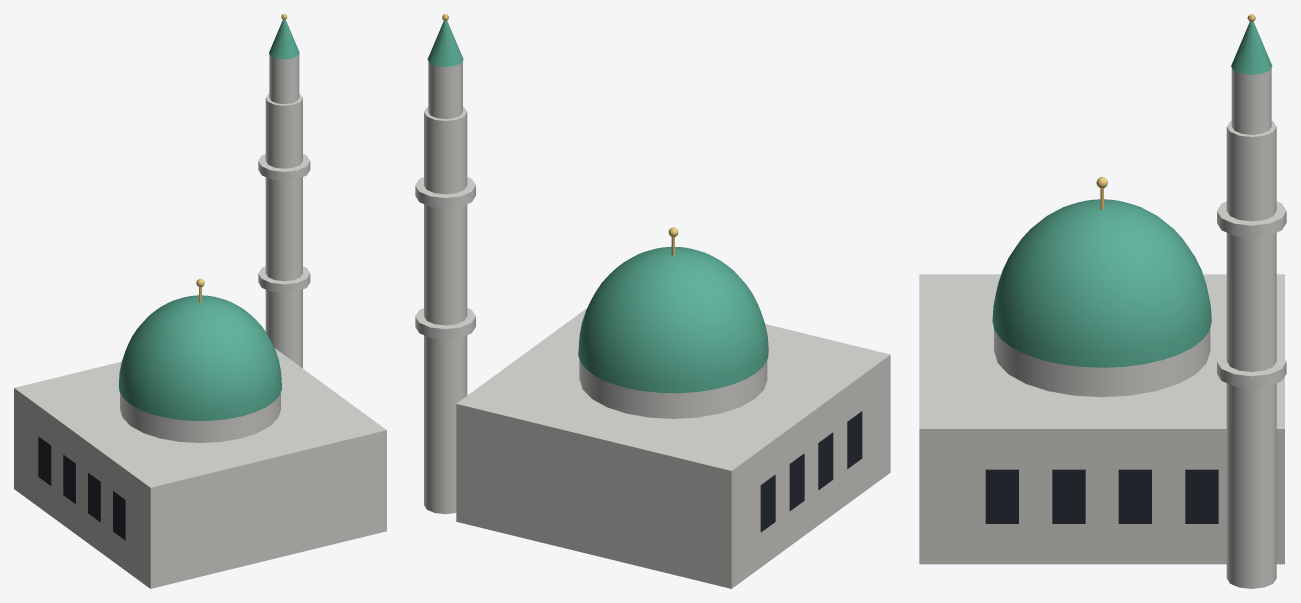
File: SM_Mosque_Dome.fbx
3 renders of one model, left to right at view 1: azimuth 30°, elevation 25°; view 2: azimuth 150°, elevation 25°; view 3: azimuth 270°, elevation 25°, orthographic. The views are drawn at different scales.
Parts seen in each view (by area): view 1: SM_Mosque_Dome; view 2: SM_Mosque_Dome; view 3: SM_Mosque_Dome.
Boxes of the visible parts, x1=… form: SM_Mosque_Dome: x1=14, y1=14, x2=386, y2=588; SM_Mosque_Dome: x1=415, y1=14, x2=890, y2=588; SM_Mosque_Dome: x1=919, y1=14, x2=1286, y2=588.
Bounding box in the file's own units: 2614 × 3745 × 2210.
